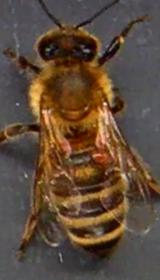varroa_mite: (82, 137, 116, 165)
